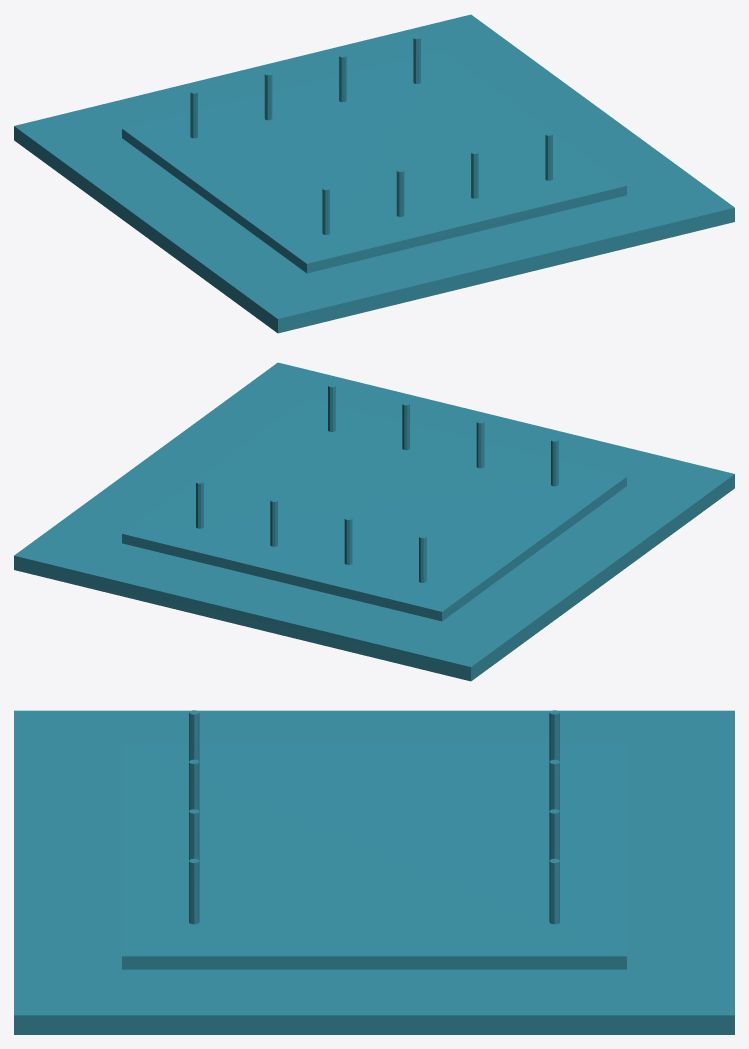
Rendered from frog-pond.source.glb.
3 views of the same model, one above another, from view 1: azimuth 30°, elevation 25°; view 2: azimuth 150°, elevation 25°; view 3: azimuth 270°, elevation 25° (orthographic). The views are drawn at different scales.
Visible parts, largest first — view 1: frog-pond-bank-mesh, frog-pond-water-mesh; view 2: frog-pond-bank-mesh, frog-pond-water-mesh; view 3: frog-pond-bank-mesh, frog-pond-water-mesh, frog-pond-reed-3-mesh, frog-pond-reed-7-mesh, frog-pond-reed-0-mesh, frog-pond-reed-1-mesh, frog-pond-reed-2-mesh, frog-pond-reed-4-mesh, frog-pond-reed-5-mesh, frog-pond-reed-6-mesh.
Part boxes in pixels (box(x1,y1,x2,y2)): frog-pond-bank-mesh: box(14, 14, 734, 333); frog-pond-water-mesh: box(122, 50, 626, 273); frog-pond-bank-mesh: box(14, 362, 734, 681); frog-pond-water-mesh: box(122, 398, 626, 621); frog-pond-bank-mesh: box(14, 710, 734, 1034); frog-pond-water-mesh: box(122, 743, 626, 969); frog-pond-reed-3-mesh: box(549, 858, 559, 924); frog-pond-reed-7-mesh: box(189, 858, 199, 924); frog-pond-reed-0-mesh: box(549, 710, 559, 761); frog-pond-reed-1-mesh: box(549, 759, 559, 810); frog-pond-reed-2-mesh: box(549, 809, 559, 860); frog-pond-reed-4-mesh: box(189, 710, 199, 761); frog-pond-reed-5-mesh: box(189, 759, 199, 810); frog-pond-reed-6-mesh: box(189, 809, 199, 860).
Size of the model in its own units: 4 by 0.575 by 4.
